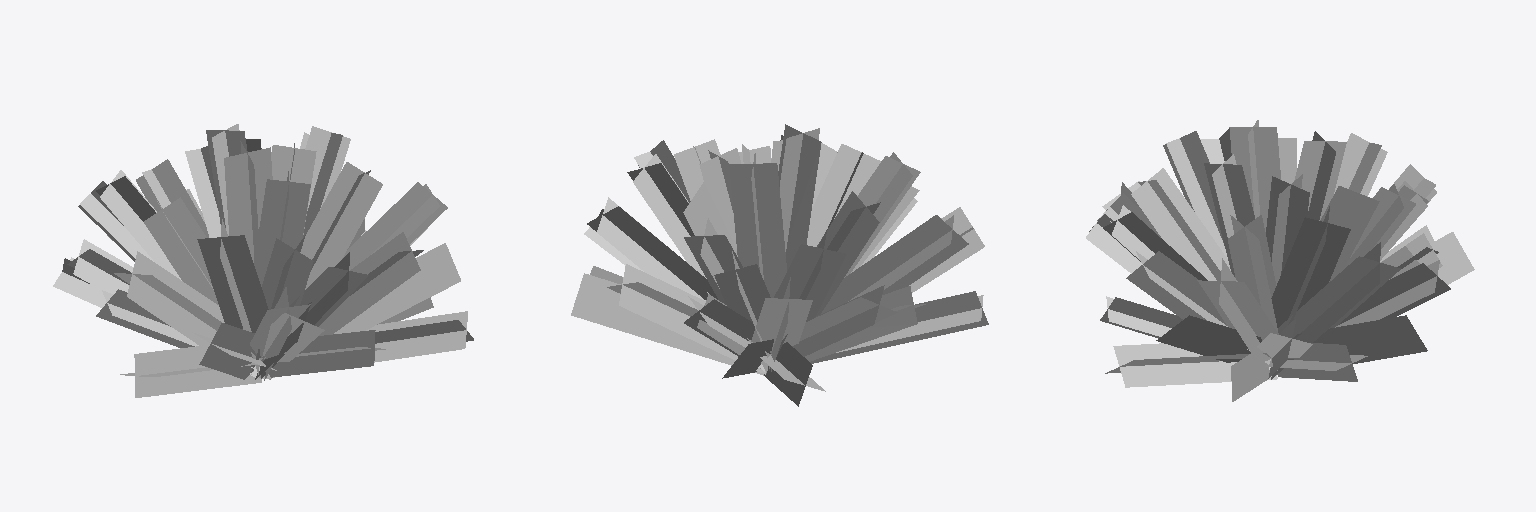
File: prop_bush_med_02.obj
3 renders of one model, left to right at view 1: azimuth 30°, elevation 25°; view 2: azimuth 150°, elevation 25°; view 3: azimuth 270°, elevation 25°, orthographic.
Size of the model in its own units: 1.59 by 1.04 by 1.52.